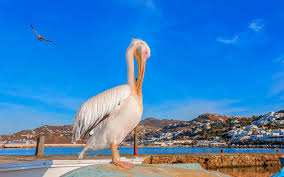pelican: (73, 39, 151, 170)
